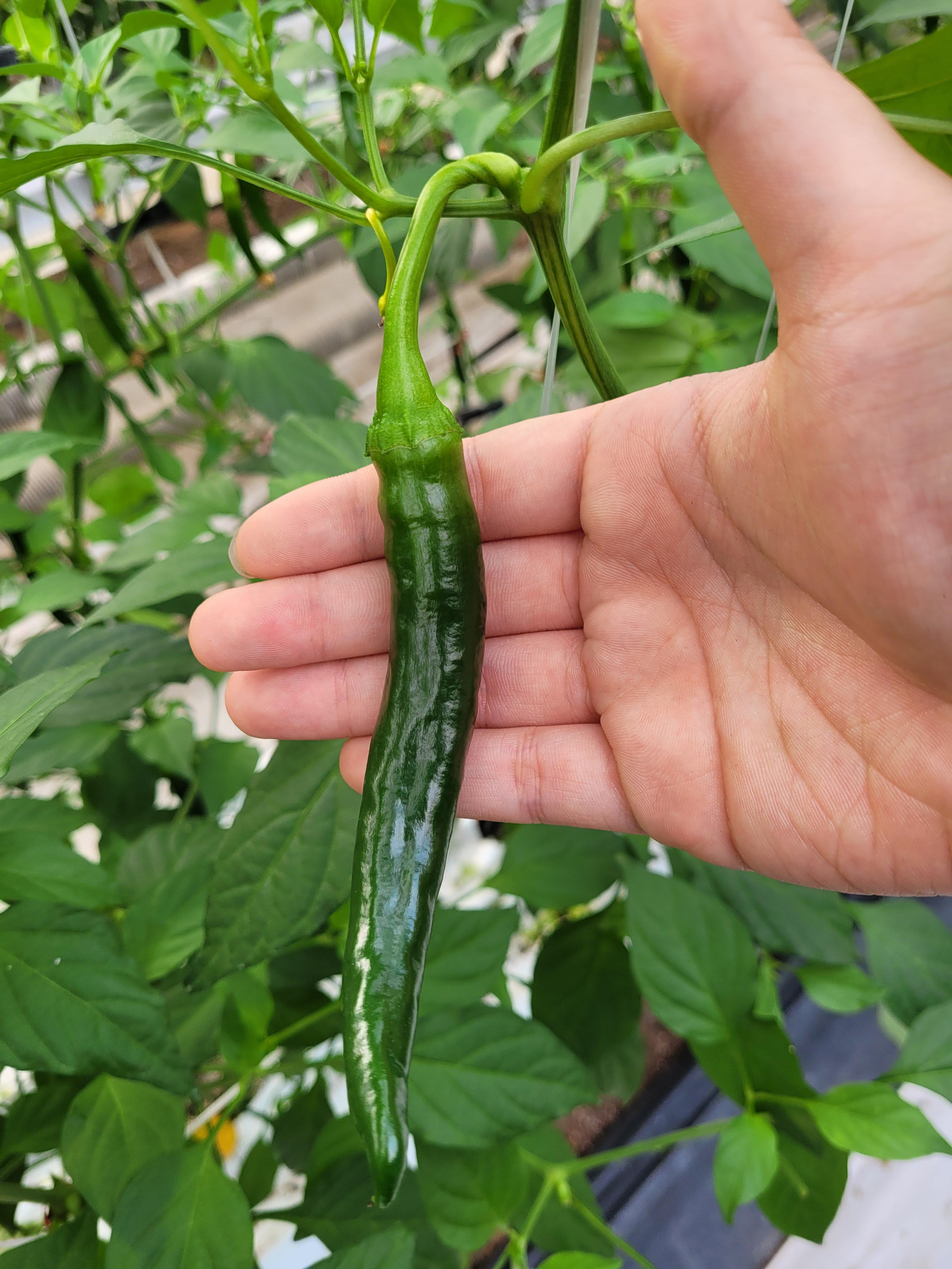Buah Cabai Sehat: (337, 369, 488, 1208)
